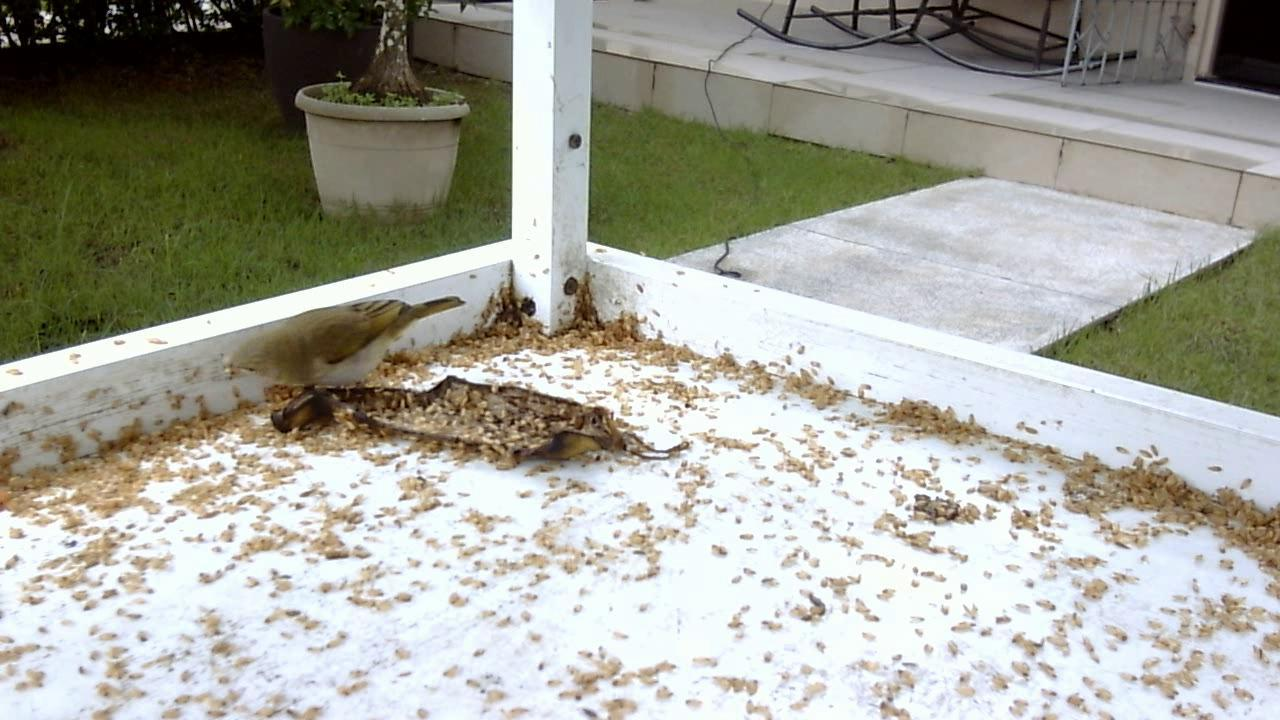canario_do_amazonas: (220, 293, 471, 423)
